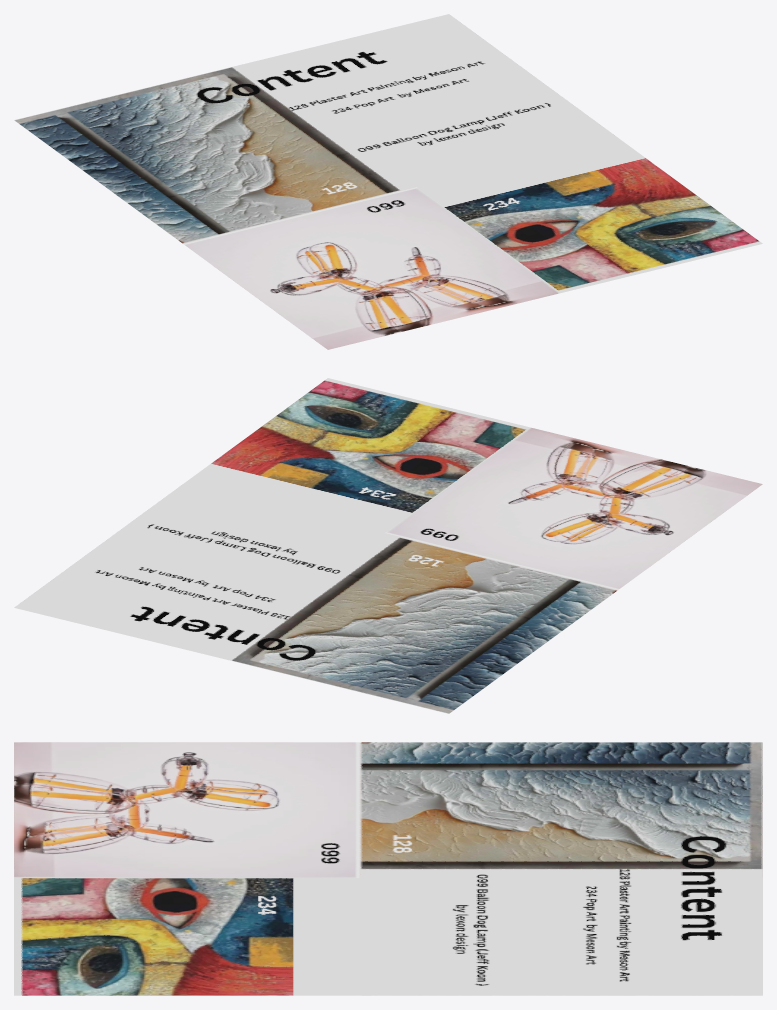
The model's file is avenue51pg13.glb.
3 views of the same model, one above another, from view 1: azimuth 30°, elevation 25°; view 2: azimuth 150°, elevation 25°; view 3: azimuth 270°, elevation 25° (orthographic). The views are drawn at different scales.
Visible parts, largest first — view 1: Plane; view 2: Plane; view 3: Plane.
Part boxes in pixels (x1,y1,x2,y2): Plane: (14,14,762,349); Plane: (14,378,762,713); Plane: (14,742,762,995).
Size of the model in its own units: 0.4 by 0 by 0.5.
Materials: 1 (1 with a texture image).
